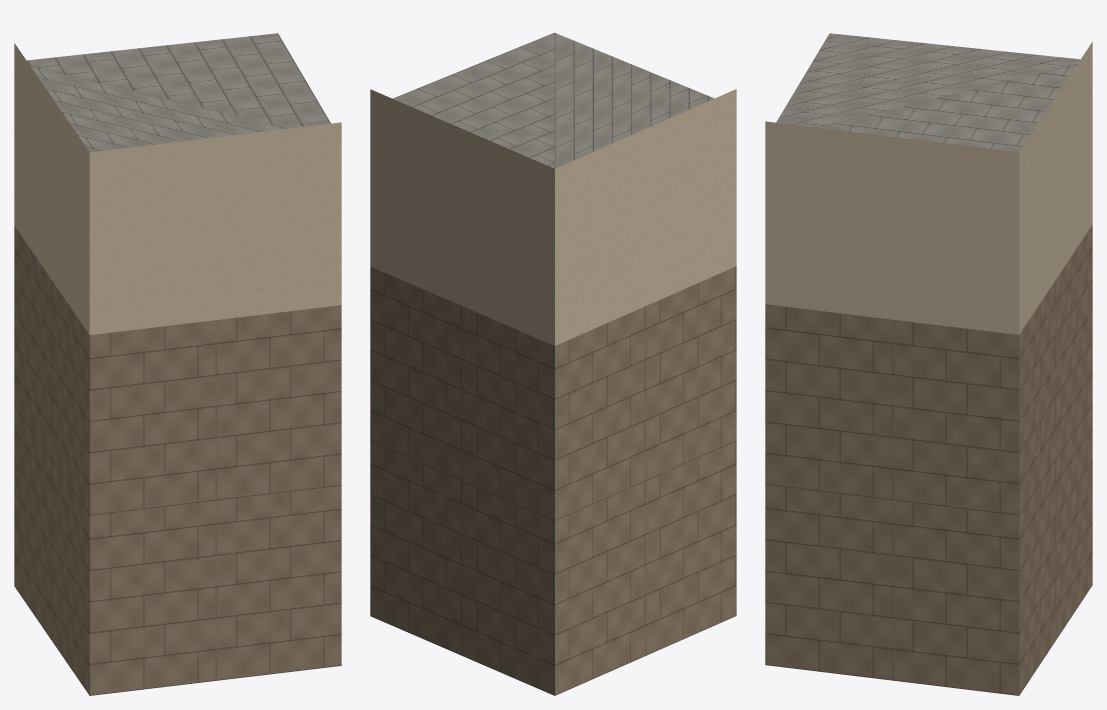
The model's file is bld_c8_25_417.gltf.
The picture shows the model from 3 angles, left to right: view 1: azimuth 30°, elevation 25°; view 2: azimuth 150°, elevation 25°; view 3: azimuth 270°, elevation 25°; orthographic projection. The views are drawn at different scales.
Visible parts, largest first — view 1: bld_c8_25_417; view 2: bld_c8_25_417; view 3: bld_c8_25_417.
Boxes of the visible parts, x1,y1,x2,y2 form: bld_c8_25_417: (14,33,341,695); bld_c8_25_417: (370,32,736,695); bld_c8_25_417: (765,33,1092,695).
Bounding box in the file's own units: 3.7 × 6.78 × 3.7.
Materials: 4 (4 with a texture image).
